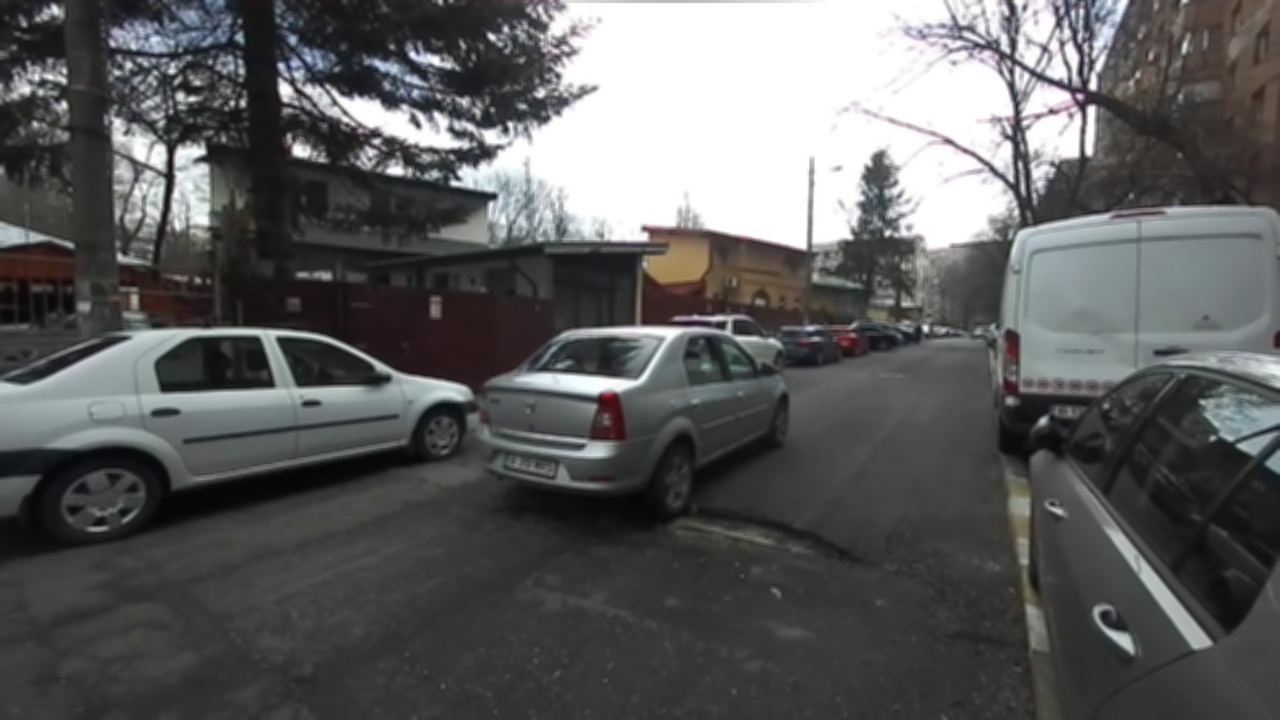pothole: (658, 510, 870, 567), (486, 503, 562, 528)
